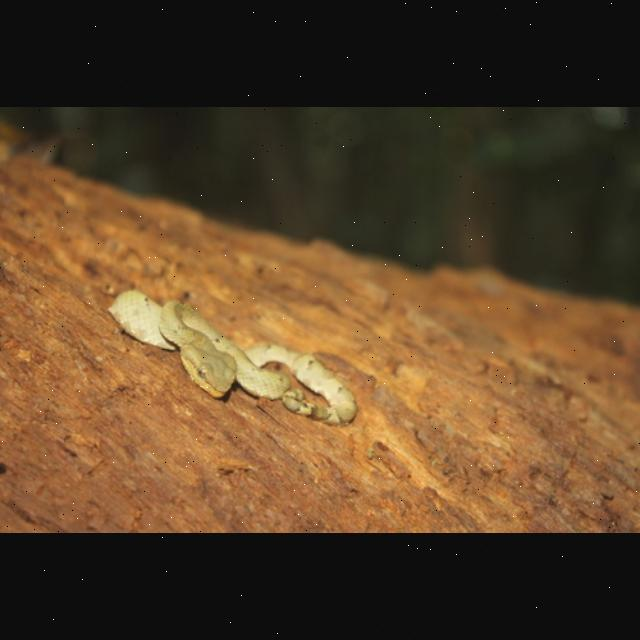snake: (103, 284, 357, 430)
